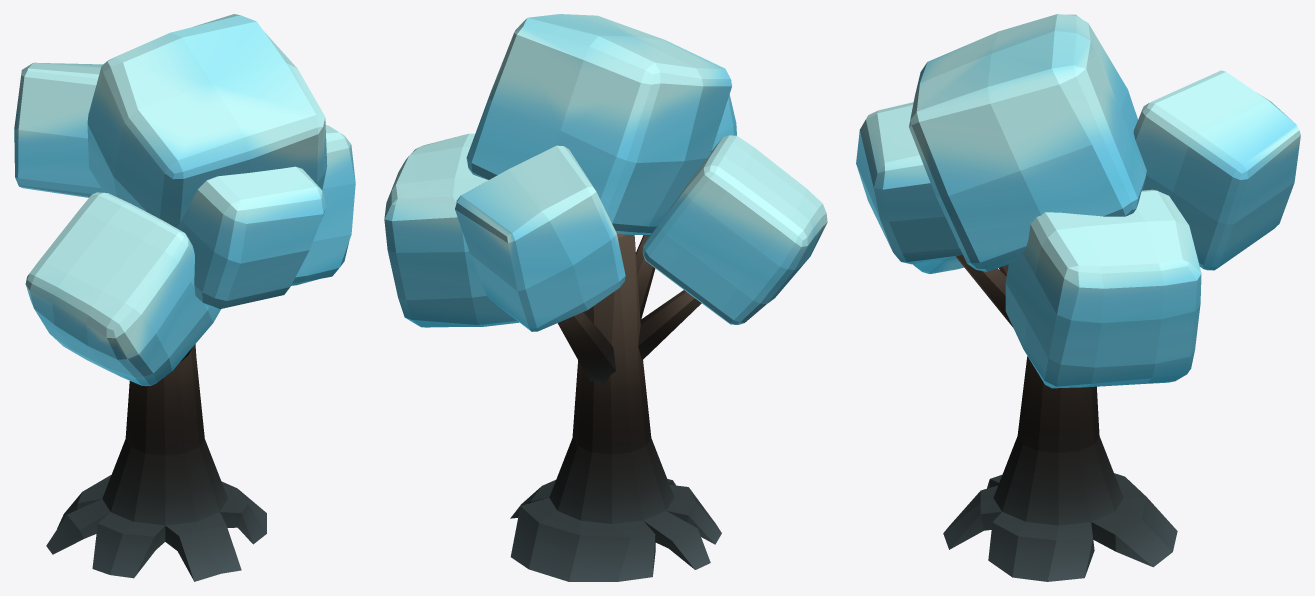
File: Tree_Cube_Winter_Small_Alt.fbx
3 renders of one model, left to right at view 1: azimuth 30°, elevation 25°; view 2: azimuth 150°, elevation 25°; view 3: azimuth 270°, elevation 25°, orthographic. The views are drawn at different scales.
Visible parts, largest first — view 1: Tree_Cube_Winter_Small_Alt; view 2: Tree_Cube_Winter_Small_Alt; view 3: Tree_Cube_Winter_Small_Alt.
Part boxes in pixels (box(x1,y1,x2,y2)): Tree_Cube_Winter_Small_Alt: box(14, 14, 355, 581); Tree_Cube_Winter_Small_Alt: box(384, 14, 827, 581); Tree_Cube_Winter_Small_Alt: box(856, 14, 1300, 581).
Size of the model in its own units: 245 by 322 by 252.
